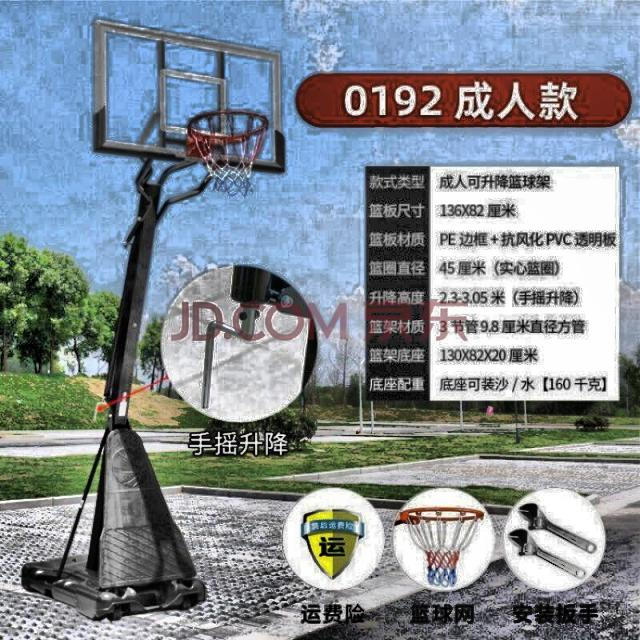rim: (188, 110, 270, 197)
